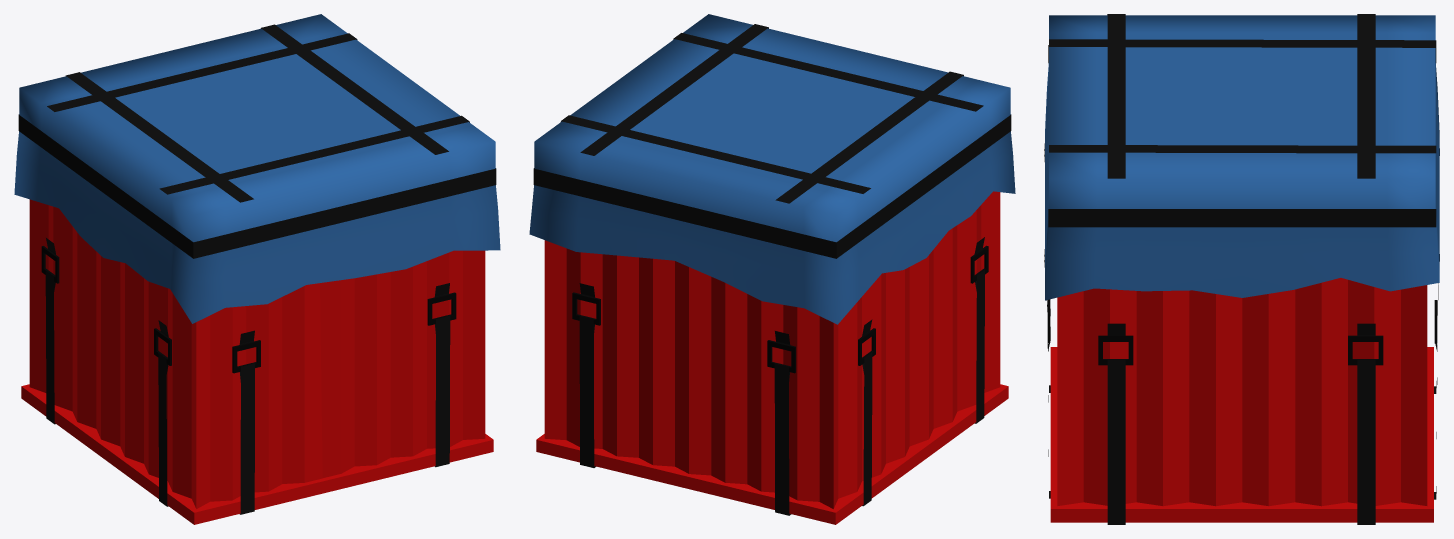
File: airdrop.obj
3 renders of one model, left to right at view 1: azimuth 30°, elevation 25°; view 2: azimuth 150°, elevation 25°; view 3: azimuth 270°, elevation 25°, orthographic. The views are drawn at different scales.
Parts seen in each view (by area): view 1: Cube.003_Cube.007, Cube.001, Cube.004_Cube.006, Cube.005_Cube.019, Cube.001_Cube.003; view 2: Cube.003_Cube.007, Cube.001, Cube.004_Cube.006, Cube.005_Cube.019, Cube.001_Cube.003; view 3: Cube.003_Cube.007, Cube.001, Cube.004_Cube.006, Cube.001_Cube.003, Cube.005_Cube.019.
Boxes of the visible parts, box(x1,y1,x2,y2) form: Cube.003_Cube.007: box(14, 14, 500, 323); Cube.001: box(29, 199, 485, 508); Cube.004_Cube.006: box(41, 24, 469, 514); Cube.005_Cube.019: box(18, 114, 496, 258); Cube.001_Cube.003: box(21, 384, 493, 524); Cube.003_Cube.007: box(529, 14, 1015, 324); Cube.001: box(544, 191, 1000, 508); Cube.004_Cube.006: box(561, 24, 988, 515); Cube.005_Cube.019: box(533, 114, 1011, 258); Cube.001_Cube.003: box(536, 384, 1008, 524); Cube.003_Cube.007: box(1045, 15, 1439, 300); Cube.001: box(1057, 278, 1427, 506); Cube.004_Cube.006: box(1044, 14, 1439, 524); Cube.001_Cube.003: box(1050, 347, 1433, 522); Cube.005_Cube.019: box(1048, 45, 1436, 227).
Bounding box in the file's own units: 2.14 × 2.07 × 2.14.
